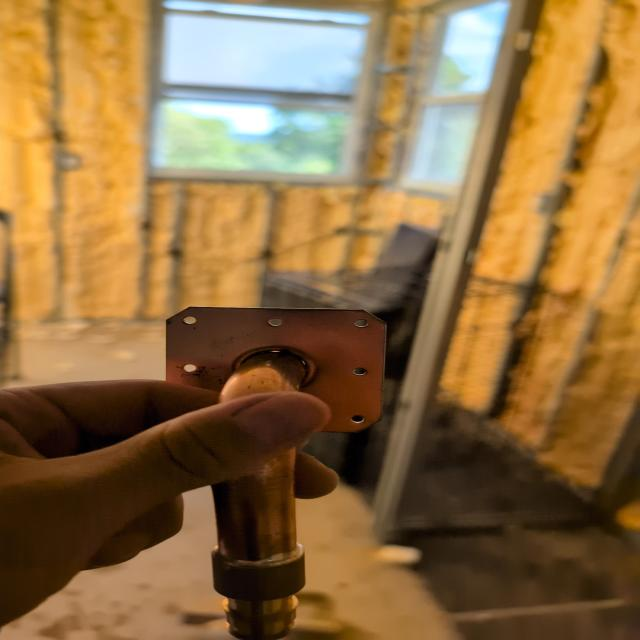wall_flange: (141, 298, 480, 640)
